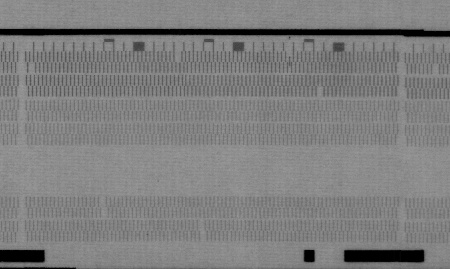Broken hole: (1, 142, 450, 198), (196, 219, 210, 243), (98, 196, 111, 219), (172, 50, 183, 63), (430, 64, 441, 77), (27, 62, 37, 75), (315, 86, 325, 98)
Oblique printing: (284, 50, 296, 68)
